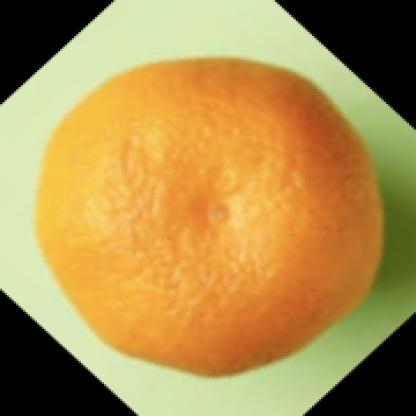fresh: (36, 58, 381, 372)
